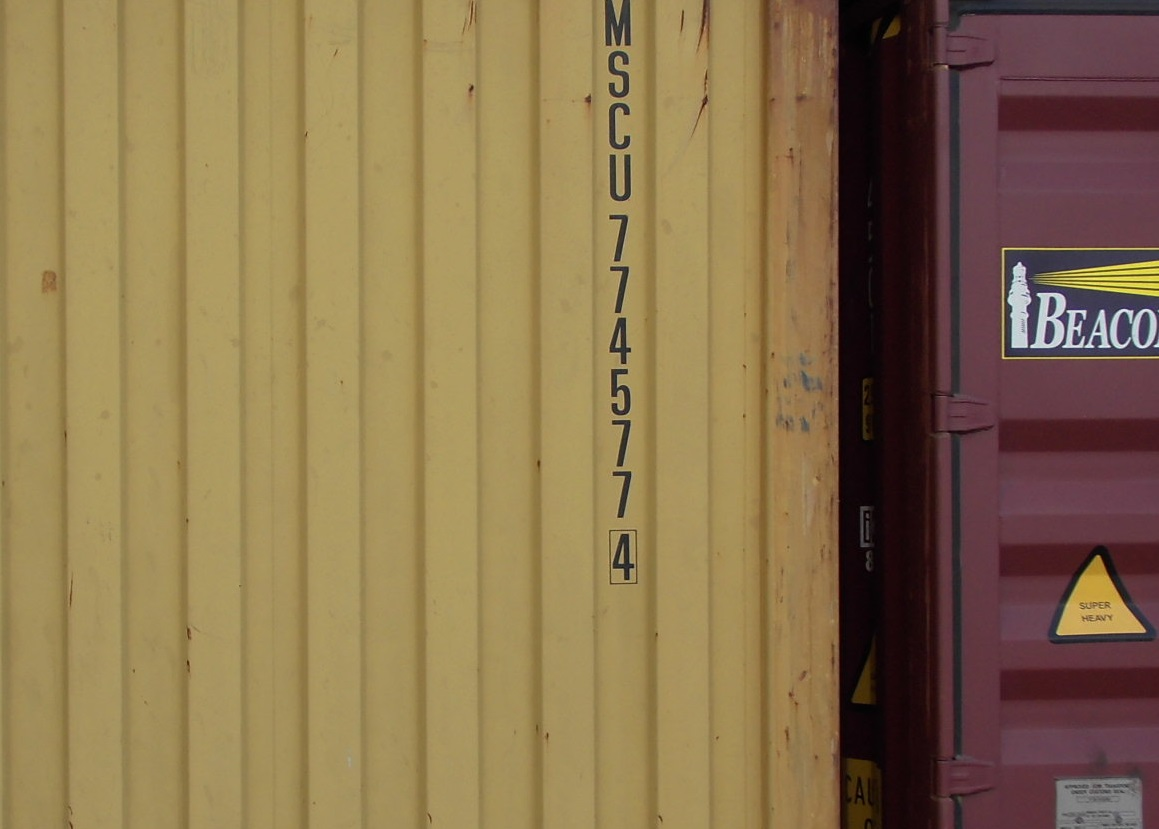container_no_door: (4, 7, 842, 821)
